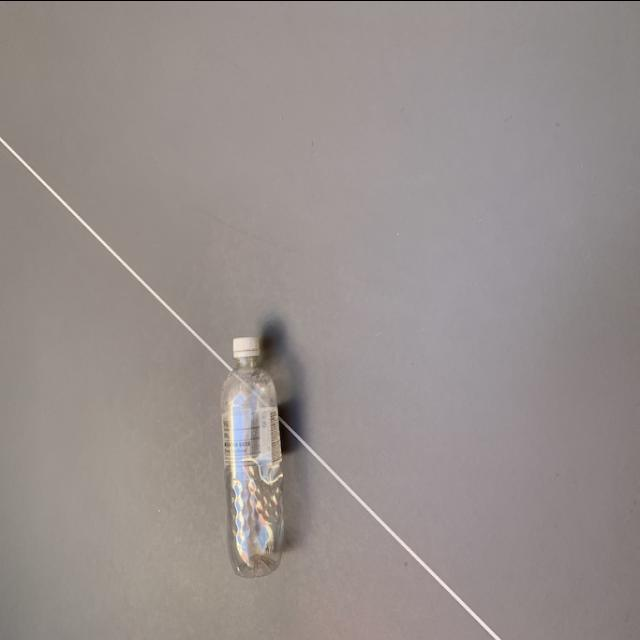litter: (222, 333, 288, 575)
